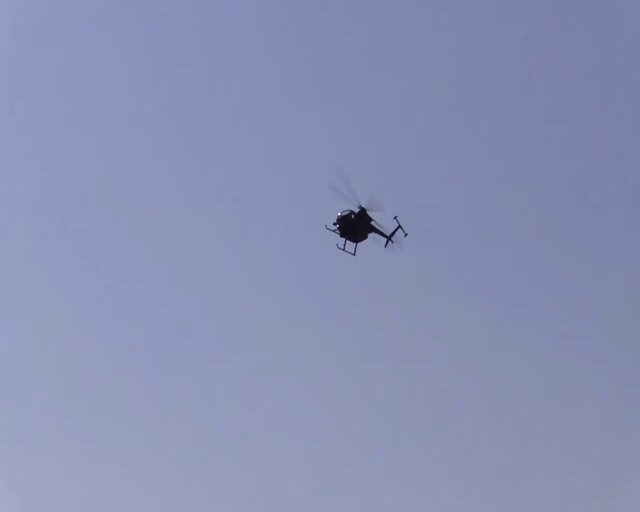HELICOPTER: (325, 162, 409, 256)
